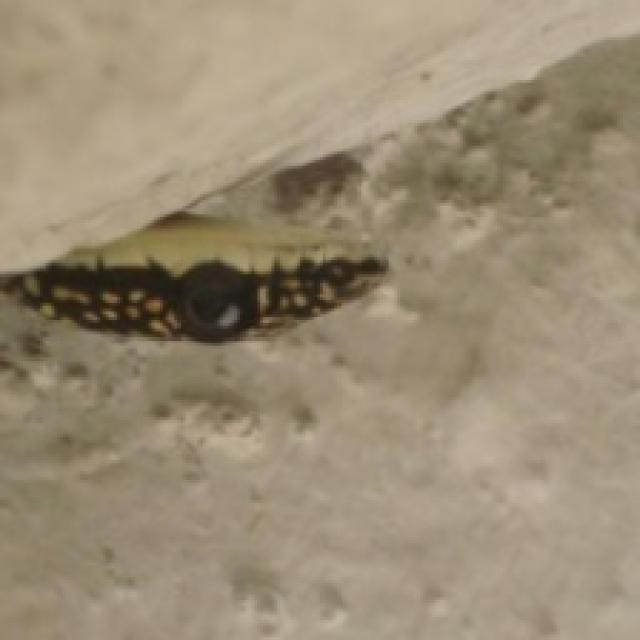paradise tree snake: (0, 211, 383, 340), (3, 257, 383, 340)
